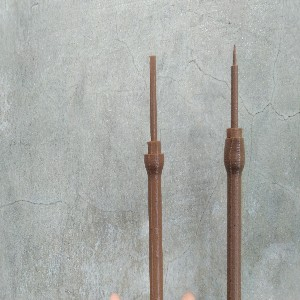obeng: (143, 54, 166, 300)
solder: (223, 42, 246, 300)
